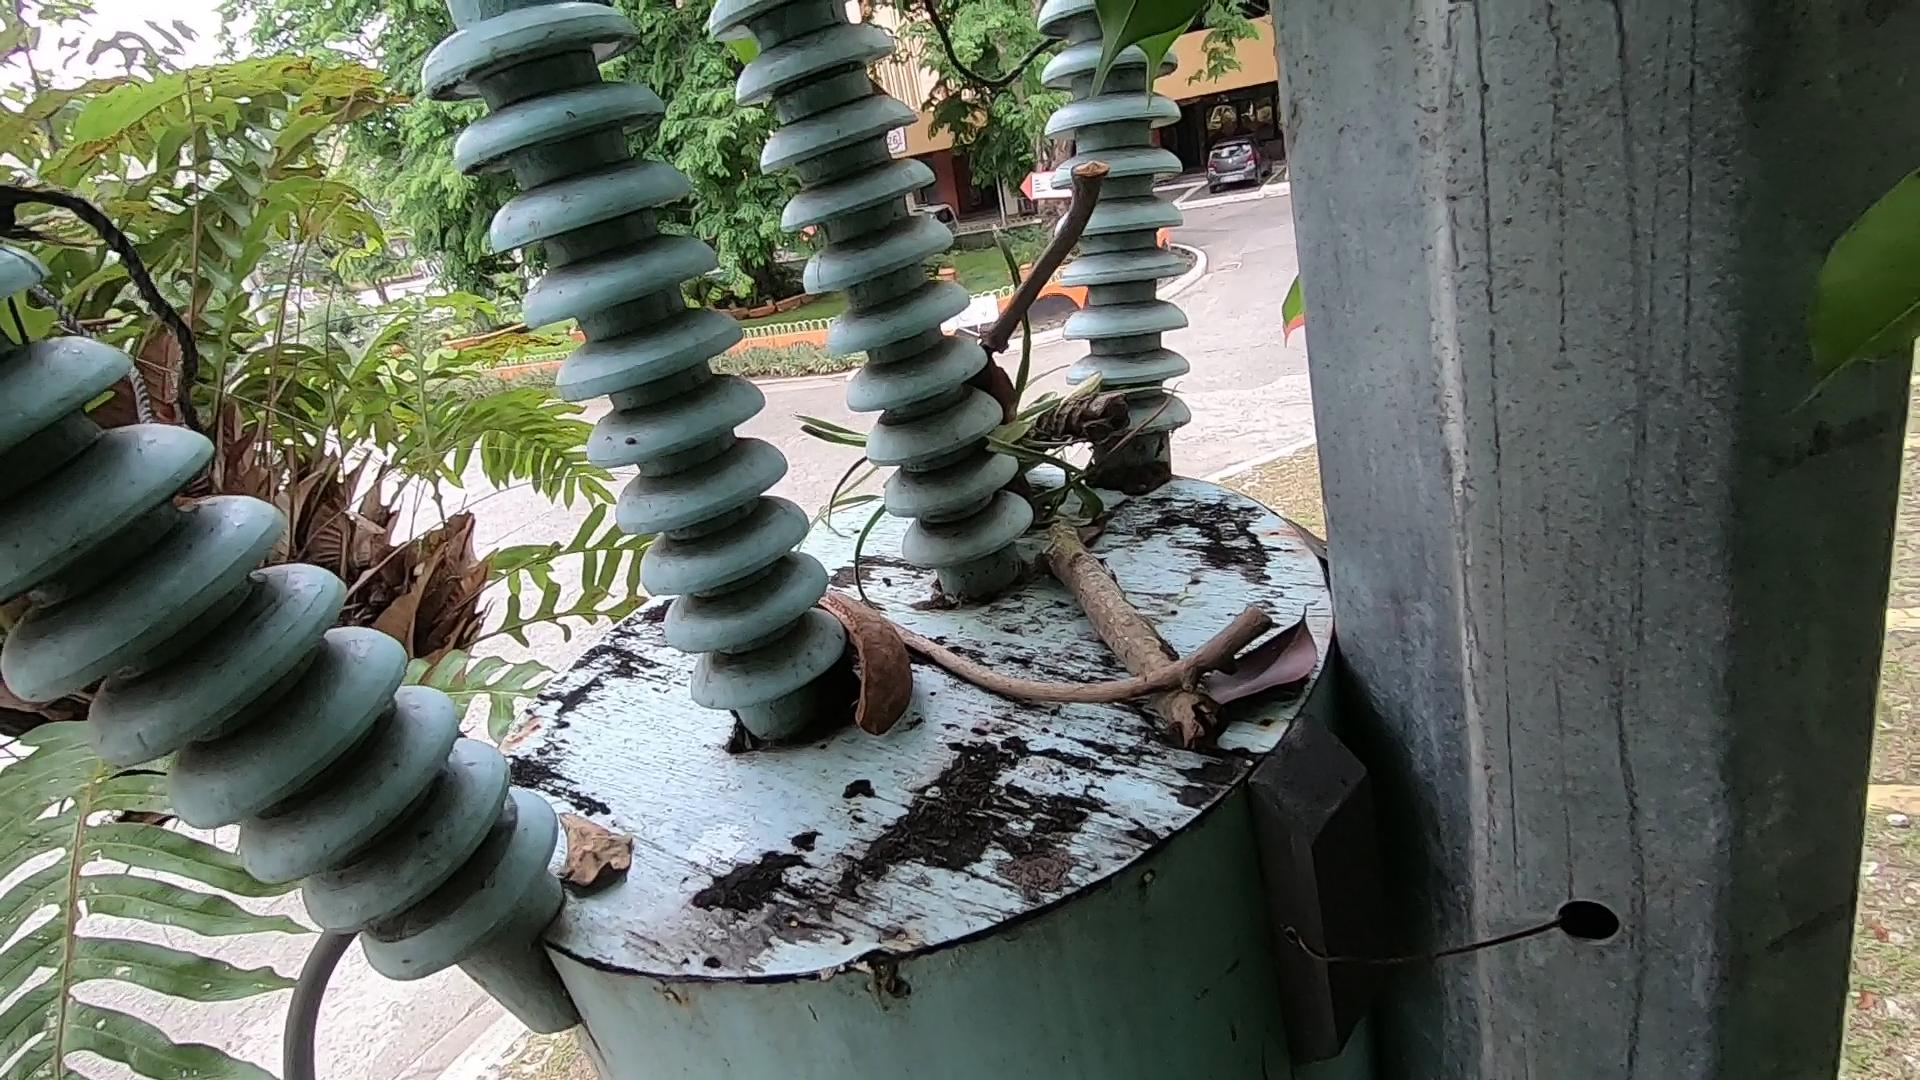branch with leaves: (1001, 316, 1304, 851)
leaf: (1185, 585, 1333, 764), (554, 773, 662, 957)
mahogany fruit: (796, 567, 909, 740), (967, 324, 1048, 520)
tree branch: (856, 622, 1265, 748), (963, 138, 1151, 376)
